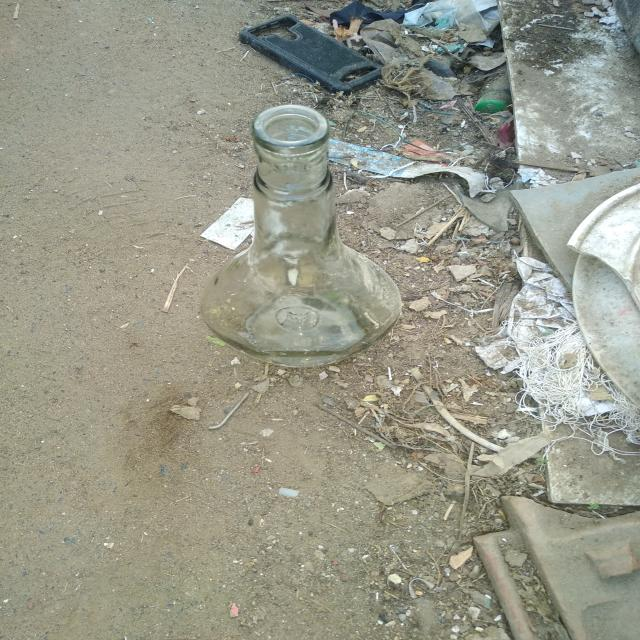thuytinh: (202, 105, 402, 368)
